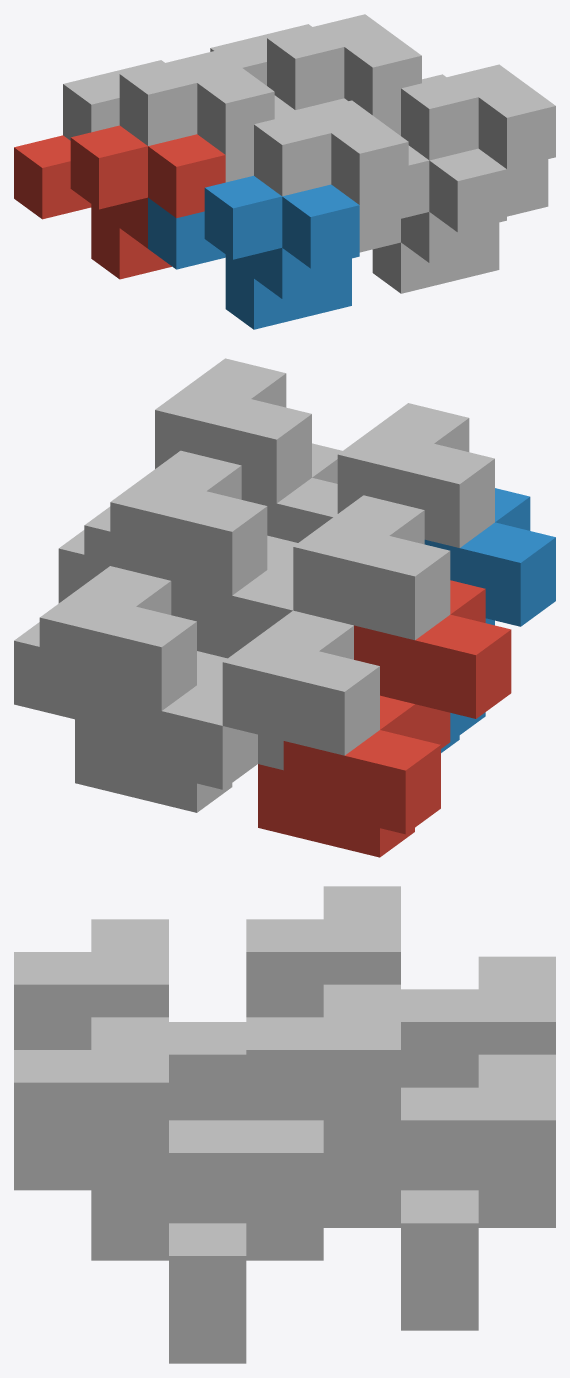
The model's file is tiling.obj.
3 views of the same model, one above another, from view 1: azimuth 30°, elevation 25°; view 2: azimuth 150°, elevation 25°; view 3: azimuth 270°, elevation 25° (orthographic). The views are drawn at different scales.
Parts seen in each view (by area): view 1: copy_1_domain_2, copy_1_domain_1, copy_1_domain_3, copy_1_domain_4, copy_1_domain_8, copy_1_domain_6, copy_1_domain_7, copy_1_domain_5; view 2: copy_1_domain_7, copy_1_domain_3, copy_1_domain_1, copy_1_domain_5, copy_1_domain_8, copy_1_domain_4, copy_1_domain_2, copy_1_domain_6; view 3: copy_1_domain_7, copy_1_domain_8, copy_1_domain_3, copy_1_domain_4, copy_1_domain_6, copy_1_domain_5.
Boxes of the visible parts, x1,y1,x2,y2 form: copy_1_domain_2: (148, 175, 359, 329); copy_1_domain_1: (14, 125, 225, 279); copy_1_domain_3: (63, 50, 274, 154); copy_1_domain_4: (225, 100, 408, 252); copy_1_domain_8: (376, 64, 555, 216); copy_1_domain_6: (372, 145, 506, 293); copy_1_domain_7: (210, 14, 421, 117); copy_1_domain_5: (274, 95, 347, 114); copy_1_domain_7: (14, 450, 267, 725); copy_1_domain_3: (197, 495, 450, 770); copy_1_domain_1: (258, 580, 511, 857); copy_1_domain_5: (75, 535, 297, 812); copy_1_domain_8: (58, 358, 311, 603); copy_1_domain_4: (268, 403, 494, 575); copy_1_domain_2: (424, 488, 555, 752); copy_1_domain_6: (241, 443, 342, 542); copy_1_domain_7: (246, 984, 555, 1293); copy_1_domain_8: (14, 1017, 323, 1325); copy_1_domain_3: (246, 886, 555, 1087); copy_1_domain_4: (14, 919, 246, 1120); copy_1_domain_6: (14, 1153, 323, 1363); copy_1_domain_5: (323, 1190, 555, 1330).
Size of the model in its own units: 8 by 4 by 7.
